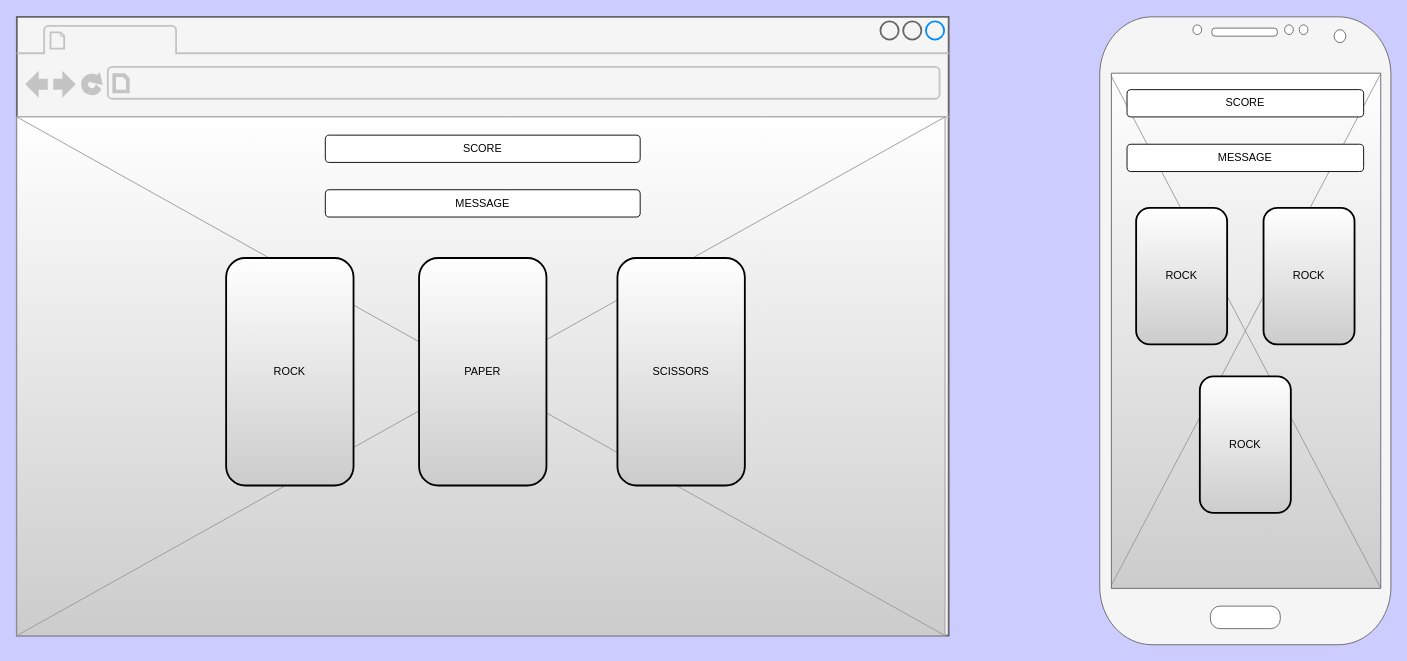
Some shapes in this 1407 by 661 pixel diagram are drawn without their labels. The centre of each missing label's shape, as x and y in pixels:
"https://www.draw.io" belongs at pixel 248 83.
"Page 1" belongs at pixel 121 39.
